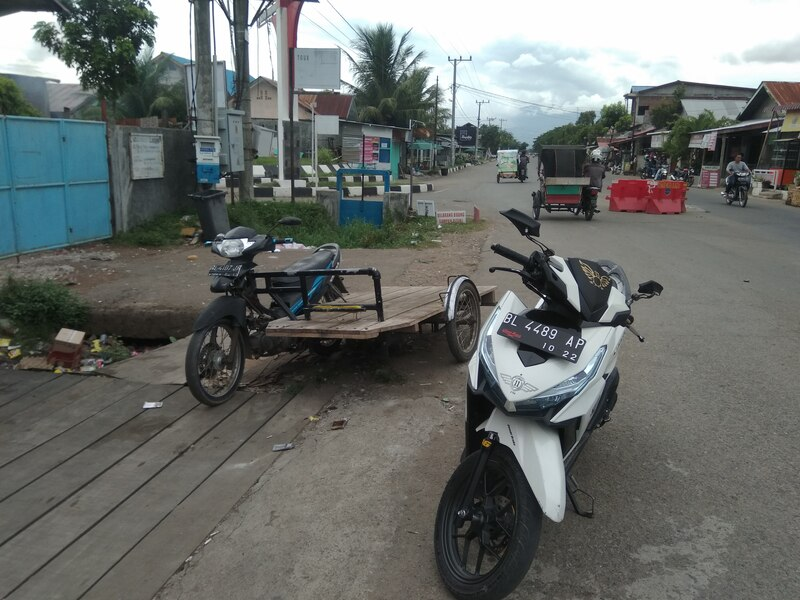becak barang: (182, 218, 500, 413)
